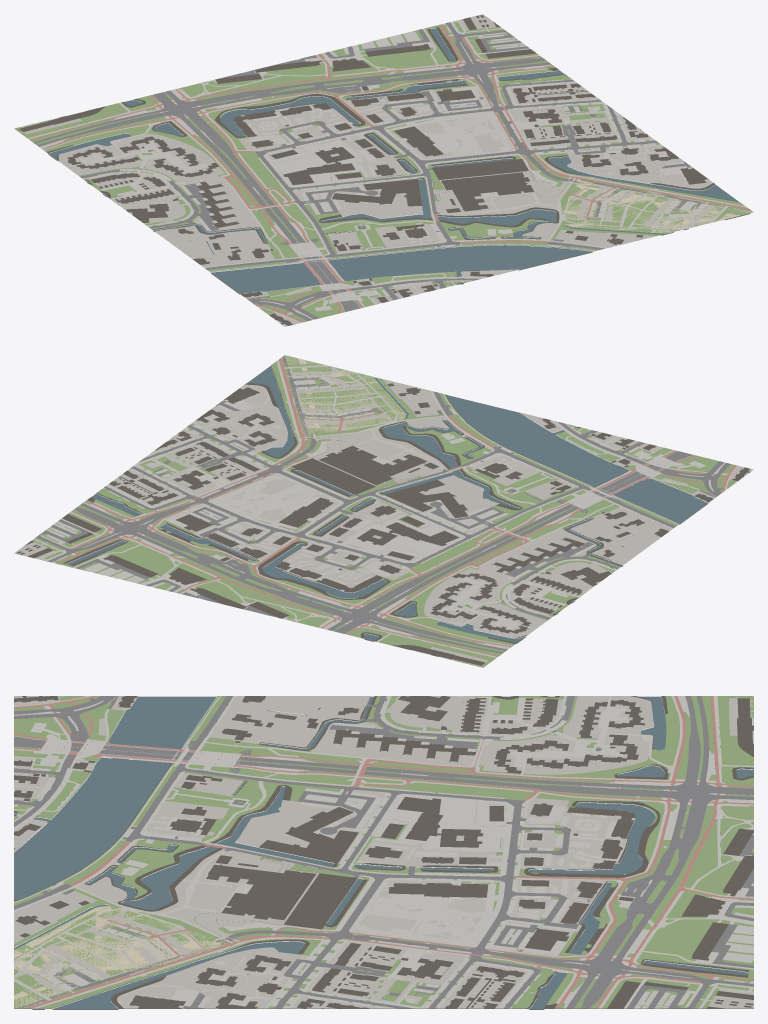
File: terrain.glb
3 renders of one model, top to bottom at view 1: azimuth 30°, elevation 25°; view 2: azimuth 150°, elevation 25°; view 3: azimuth 270°, elevation 25°, orthographic. The views are drawn at different scales.
Parts seen in each view (by area): view 1: stoep, erf, groen, bodem, weg, water, fietspad, zand; view 2: stoep, erf, groen, bodem, weg, water, fietspad, zand; view 3: stoep, erf, groen, bodem, weg, water, fietspad, zand.
Boxes of the visible parts, x1,y1,x2,y2 form: stoep: (14, 20, 747, 322); erf: (24, 14, 724, 326); groen: (14, 20, 753, 321); bodem: (18, 15, 749, 325); weg: (33, 22, 752, 321); water: (48, 28, 750, 293); fietspad: (29, 24, 750, 322); zand: (334, 129, 753, 233); stoep: (33, 360, 738, 665); erf: (14, 366, 753, 662); groen: (31, 355, 735, 667); bodem: (17, 365, 750, 665); weg: (36, 355, 730, 653); water: (66, 366, 707, 642); fietspad: (55, 357, 736, 656); zand: (184, 355, 420, 526); stoep: (14, 696, 753, 1008); erf: (14, 696, 753, 1008); groen: (14, 696, 753, 1008); bodem: (14, 696, 753, 1009); weg: (14, 696, 753, 1008); water: (14, 696, 753, 1009); fietspad: (14, 696, 753, 1008); zand: (14, 812, 519, 1008).
Size of the model in its own units: 600 by 1.01 by 600.
